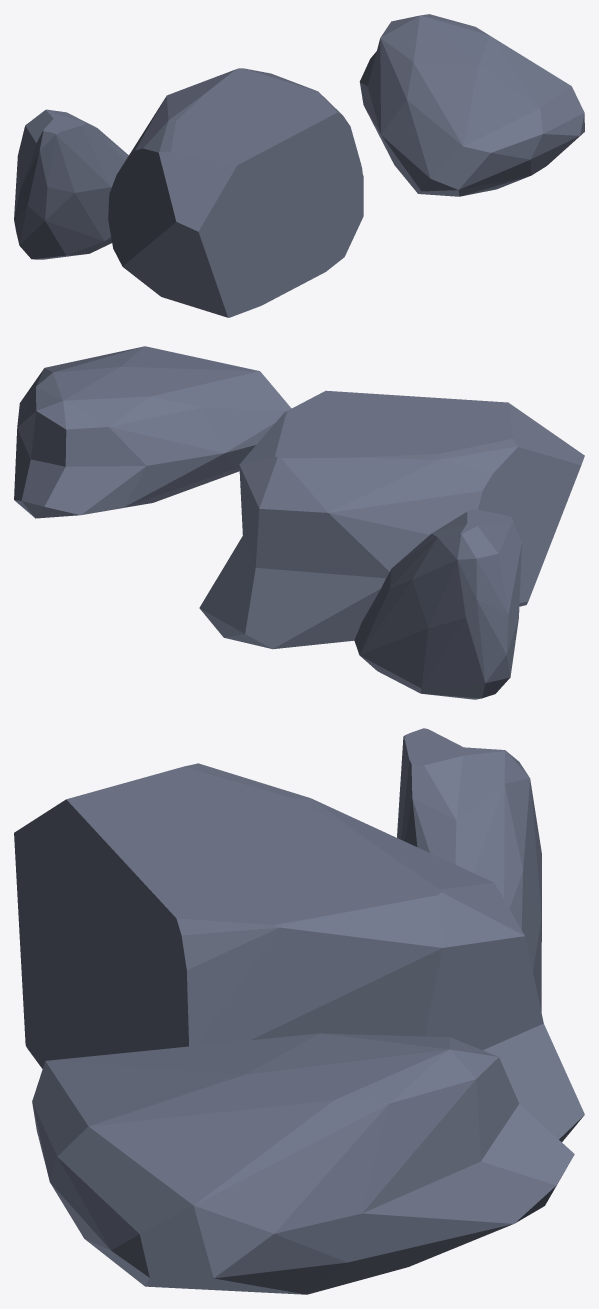
File: SM_rock_02_set.fbx
3 renders of one model, top to bottom at view 1: azimuth 30°, elevation 25°; view 2: azimuth 150°, elevation 25°; view 3: azimuth 270°, elevation 25°, orthographic. The views are drawn at different scales.
Parts seen in each view (by area): view 1: rock.051, rock.050, rock.049; view 2: rock.051, rock.050, rock.049; view 3: rock.051, rock.050, rock.049.
Part boxes in pixels (box(x1,y1,x2,y2)): rock.051: box(108, 68, 363, 317); rock.050: box(359, 14, 584, 196); rock.049: box(14, 109, 128, 259); rock.051: box(199, 390, 584, 649); rock.050: box(14, 346, 291, 518); rock.049: box(354, 509, 521, 699); rock.051: box(14, 763, 584, 1141); rock.050: box(32, 1033, 574, 1294); rock.049: box(397, 728, 541, 1012).
Bounding box in the file's own units: 7766 × 2496 × 4158.
